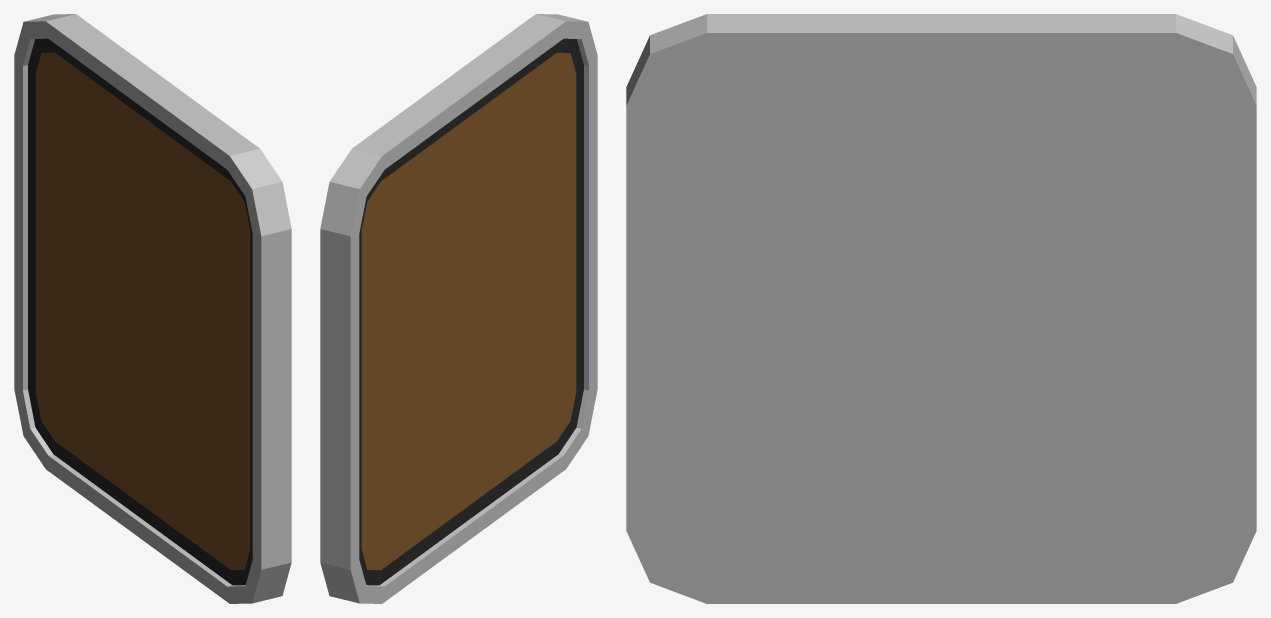
Rendered from Picture Frame_1.fbx.
3 views of the same model, side by side, from view 1: azimuth 30°, elevation 25°; view 2: azimuth 150°, elevation 25°; view 3: azimuth 270°, elevation 25° (orthographic). The views are drawn at different scales.
Parts seen in each view (by area): view 1: Picture Frame_1; view 2: Picture Frame_1; view 3: Picture Frame_1.
Boxes of the visible parts, x1,y1,x2,y2 form: Picture Frame_1: [14, 14, 291, 603]; Picture Frame_1: [320, 14, 597, 603]; Picture Frame_1: [626, 14, 1256, 603].
Size of the model in its own units: 0.0323 by 0.4558 by 0.4558.
